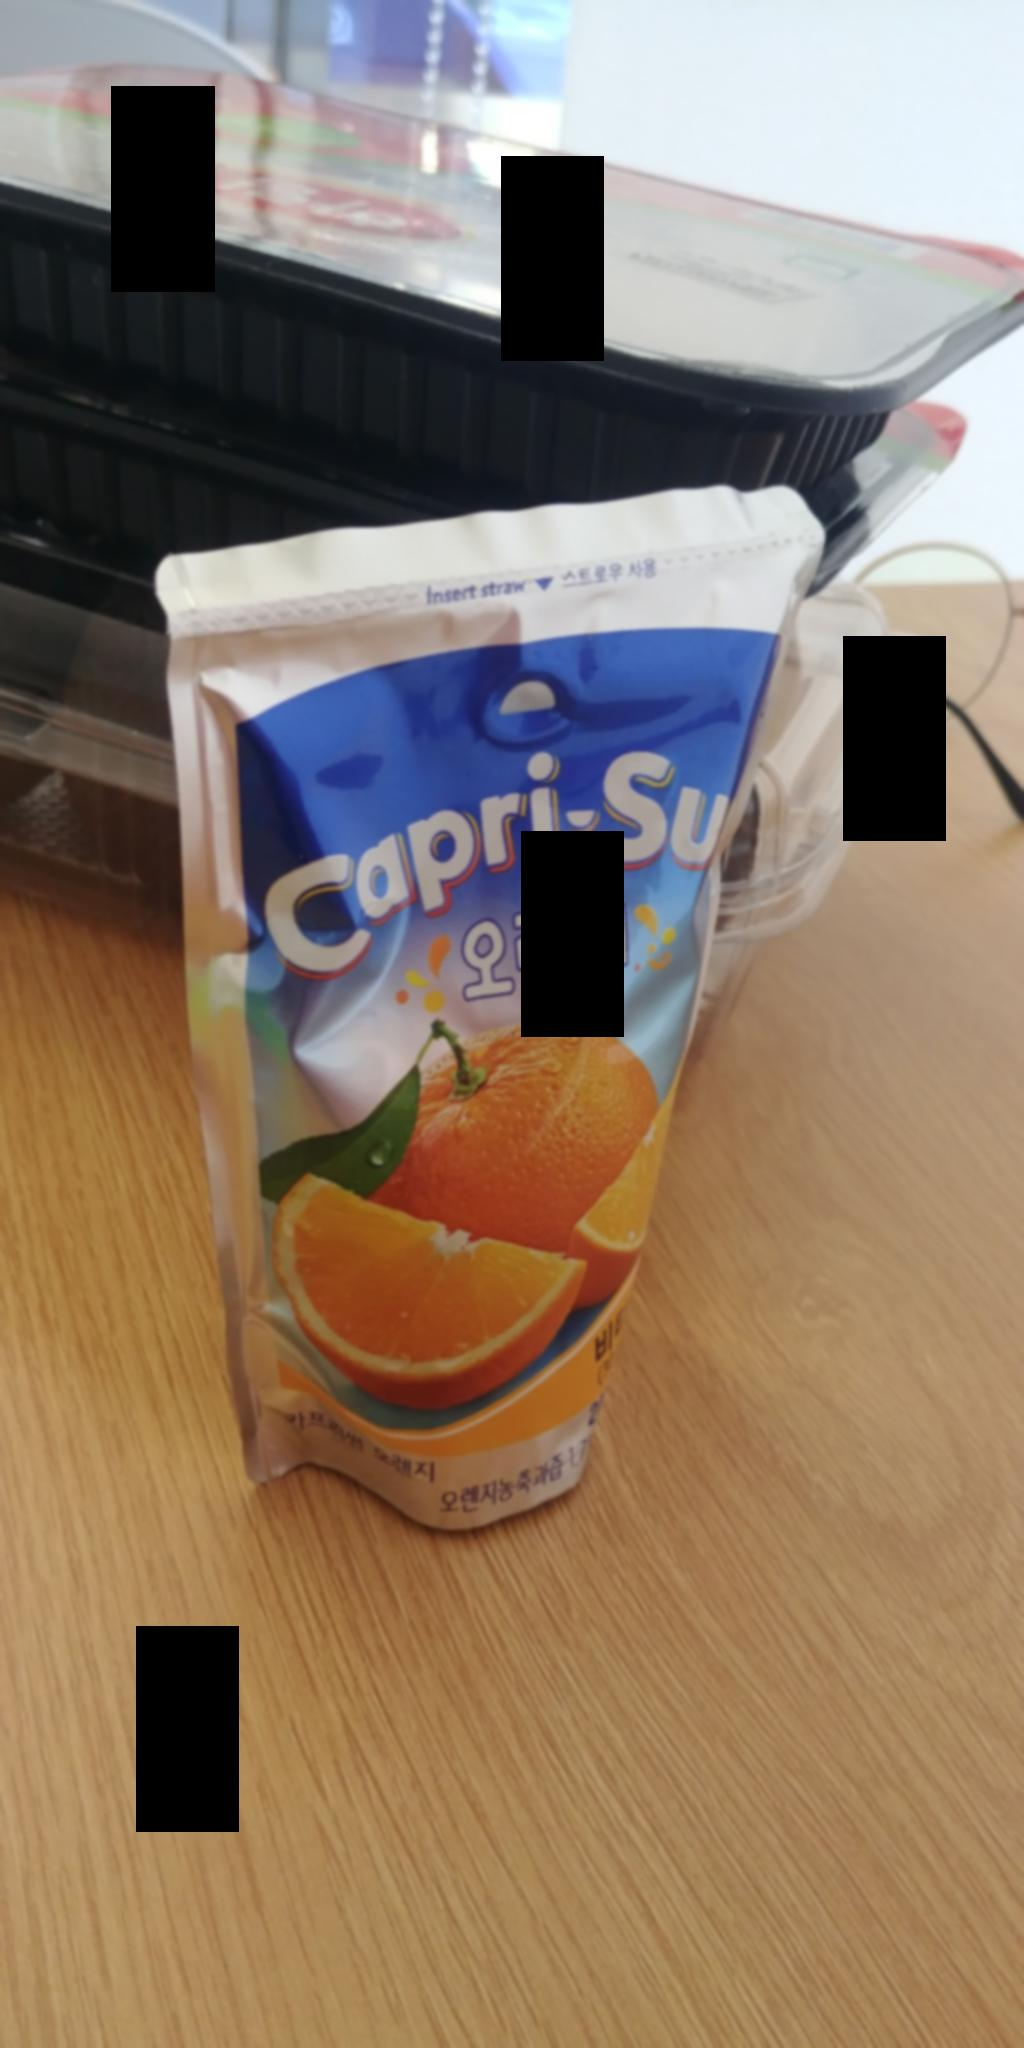cafrisun: (132, 481, 815, 1582)
